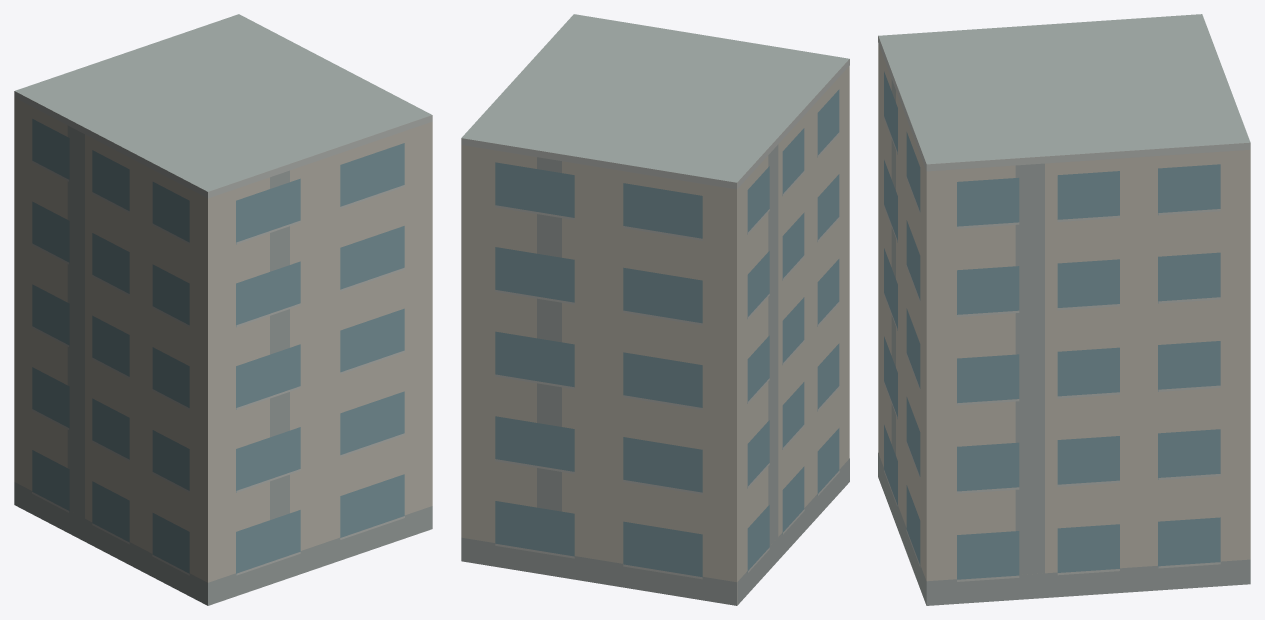
Rendered from residential-d73f4101-0962-4fbc-aaa9-976fbb703e53.glb.
3 views of the same model, side by side, from view 1: azimuth 30°, elevation 25°; view 2: azimuth 150°, elevation 25°; view 3: azimuth 270°, elevation 25° (orthographic). The views are drawn at different scales.
Visible parts, largest first — view 1: residential-d73f4101-0962-4fbc-aaa9-976fbb703e53.tmp; view 2: residential-d73f4101-0962-4fbc-aaa9-976fbb703e53.tmp; view 3: residential-d73f4101-0962-4fbc-aaa9-976fbb703e53.tmp.
Boxes of the visible parts, x1=… form: residential-d73f4101-0962-4fbc-aaa9-976fbb703e53.tmp: x1=14, y1=14, x2=432, y2=605; residential-d73f4101-0962-4fbc-aaa9-976fbb703e53.tmp: x1=461, y1=14, x2=849, y2=605; residential-d73f4101-0962-4fbc-aaa9-976fbb703e53.tmp: x1=878, y1=14, x2=1250, y2=605.
Bounding box in the file's own units: 11.15 × 15.25 × 11.67.
